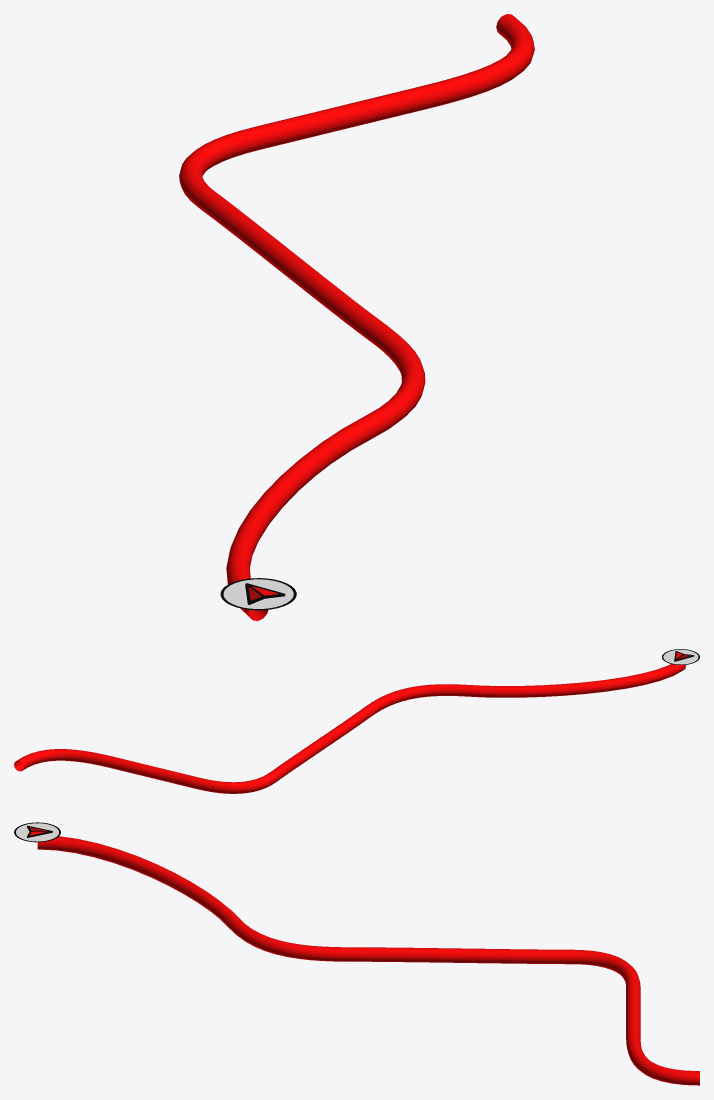
The model's file is route_1dc939c6-4c95-43fc-be4e-c17c7eaca1e6_de_single.glb.
3 renders of one model, top to bottom at view 1: azimuth 30°, elevation 25°; view 2: azimuth 150°, elevation 25°; view 3: azimuth 270°, elevation 25°, orthographic. The views are drawn at different scales.
Visible parts, largest first — view 1: B3, Abteil 3, Navipfeil.023; view 2: B3, Abteil 3, Navipfeil.023; view 3: B3, Abteil 3, Navipfeil.023.
Boxes of the visible parts, x1=… form: B3, Abteil 3: x1=179, y1=14, x2=534, y2=620; Navipfeil.023: x1=220, y1=578, x2=296, y2=610; B3, Abteil 3: x1=14, y1=664, x2=685, y2=793; Navipfeil.023: x1=662, y1=649, x2=699, y2=664; B3, Abteil 3: x1=37, y1=836, x2=699, y2=1085; Navipfeil.023: x1=14, y1=822, x2=60, y2=842.
Bounding box in the file's own units: 3.25 × 0.1062 × 3.78.
